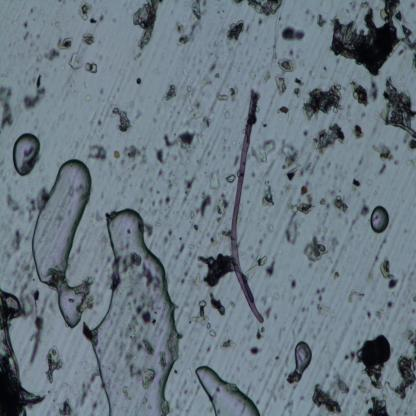Air bubble: (83, 204, 180, 416), (26, 153, 100, 330), (195, 361, 261, 416), (11, 130, 44, 178), (286, 339, 314, 379), (367, 202, 390, 236)
Background material: (329, 0, 416, 76), (0, 317, 44, 416), (115, 249, 160, 327), (344, 331, 393, 388), (381, 73, 416, 149), (300, 82, 356, 125), (275, 134, 320, 181), (131, 0, 165, 62), (282, 183, 314, 243), (120, 311, 159, 360), (173, 0, 209, 48), (303, 224, 344, 266), (162, 125, 204, 165), (196, 251, 234, 291), (387, 347, 416, 398), (315, 186, 354, 219), (20, 286, 48, 330), (22, 67, 48, 111), (312, 121, 348, 152), (312, 383, 344, 416), (270, 0, 286, 66), (19, 186, 48, 222), (2, 221, 26, 263), (181, 80, 205, 122), (308, 284, 335, 320), (366, 236, 388, 280), (0, 287, 24, 327), (45, 341, 66, 385), (75, 0, 110, 26), (43, 34, 76, 61), (350, 78, 380, 107), (318, 156, 350, 182), (252, 135, 278, 166), (78, 370, 102, 403), (0, 84, 17, 130), (108, 102, 133, 133), (128, 358, 157, 384), (369, 141, 400, 165), (359, 394, 391, 416), (52, 390, 79, 416), (123, 143, 147, 172), (245, 255, 272, 280), (379, 256, 400, 288), (246, 0, 284, 17), (278, 96, 299, 126), (190, 297, 210, 328), (207, 290, 228, 318), (226, 17, 247, 43), (152, 140, 166, 178), (85, 138, 106, 163), (280, 24, 305, 44), (260, 179, 276, 210), (182, 173, 198, 204), (26, 329, 40, 364), (302, 8, 326, 28), (200, 227, 219, 252), (213, 194, 230, 221), (258, 383, 279, 404), (149, 211, 172, 230), (290, 314, 306, 341), (82, 280, 97, 308), (292, 73, 308, 99), (197, 70, 213, 96), (274, 71, 290, 96), (341, 287, 366, 303), (157, 350, 176, 371), (198, 192, 213, 218), (333, 369, 348, 394), (218, 334, 238, 352), (261, 294, 276, 318), (67, 50, 83, 72), (162, 77, 176, 102), (207, 169, 222, 192), (176, 262, 194, 281), (278, 56, 296, 74), (160, 228, 178, 246), (175, 238, 190, 258), (80, 28, 95, 48), (140, 218, 154, 239), (208, 59, 222, 80), (404, 327, 416, 351), (7, 191, 19, 214), (284, 272, 298, 291), (156, 195, 175, 209), (269, 260, 282, 280), (350, 171, 361, 194), (350, 123, 364, 141), (178, 377, 191, 396), (228, 84, 239, 106), (254, 236, 266, 256), (84, 57, 98, 74), (362, 303, 374, 322), (358, 379, 372, 395), (372, 306, 386, 322), (219, 225, 232, 242), (391, 402, 408, 415), (283, 399, 298, 413), (223, 170, 237, 185), (214, 91, 230, 104), (20, 19, 30, 39), (216, 145, 230, 159), (262, 69, 273, 86), (192, 270, 203, 287), (166, 166, 174, 189), (120, 385, 132, 400), (202, 113, 212, 131), (358, 206, 370, 220), (249, 344, 263, 356), (206, 146, 217, 161), (277, 324, 286, 342), (110, 146, 122, 159), (378, 160, 389, 174), (254, 326, 264, 341), (182, 365, 194, 377), (248, 67, 258, 81), (230, 134, 240, 148), (127, 96, 137, 110), (284, 45, 296, 56), (320, 64, 328, 80), (109, 160, 117, 176), (182, 64, 190, 80), (245, 243, 255, 255), (332, 268, 340, 283), (190, 221, 199, 234), (188, 210, 198, 221), (256, 14, 265, 26), (211, 36, 220, 48), (232, 152, 239, 167), (407, 157, 416, 168), (358, 108, 367, 119), (267, 222, 275, 234), (249, 167, 257, 179), (244, 21, 252, 33), (98, 84, 106, 96), (300, 129, 310, 138), (308, 69, 317, 79), (50, 19, 60, 28), (91, 397, 97, 412), (231, 0, 246, 6), (209, 328, 218, 338), (384, 300, 394, 309), (133, 76, 143, 85), (228, 298, 236, 309), (35, 53, 43, 64), (224, 106, 231, 118), (113, 173, 122, 182), (85, 93, 93, 102), (206, 344, 213, 354), (97, 118, 104, 128), (29, 40, 36, 49), (125, 226, 132, 235), (300, 304, 306, 314), (410, 2, 416, 12), (409, 306, 416, 314), (272, 356, 281, 362), (139, 195, 145, 204), (56, 0, 66, 5), (137, 110, 142, 120), (35, 31, 41, 39), (28, 6, 36, 12), (412, 292, 416, 304), (100, 190, 104, 200)
Microfibre: (228, 86, 265, 325)
